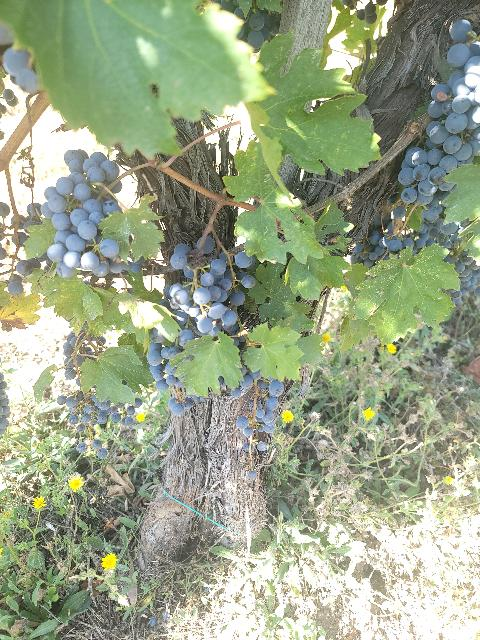grapes: (398, 20, 480, 201), (40, 150, 128, 279), (160, 236, 245, 335)
